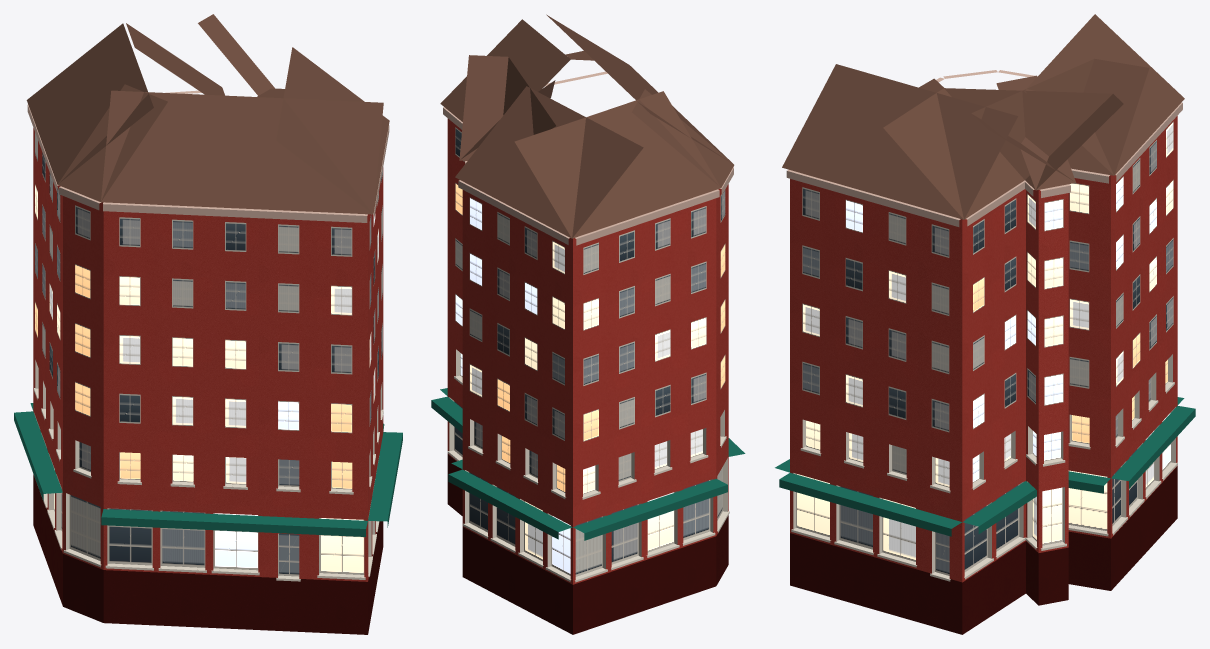
Rendered from langB_dien40.glb.
3 views of the same model, side by side, from view 1: azimuth 30°, elevation 25°; view 2: azimuth 150°, elevation 25°; view 3: azimuth 270°, elevation 25° (orthographic). The views are drawn at different scales.
Parts seen in each view (by area): view 1: langB_dien40; view 2: langB_dien40; view 3: langB_dien40.
Boxes of the visible parts, x1=… form: langB_dien40: x1=14, y1=14, x2=402, y2=634; langB_dien40: x1=431, y1=14, x2=745, y2=634; langB_dien40: x1=775, y1=14, x2=1195, y2=634.
Bounding box in the file's own units: 19.65 × 27.92 × 21.82.
3 materials, 3 textured.
